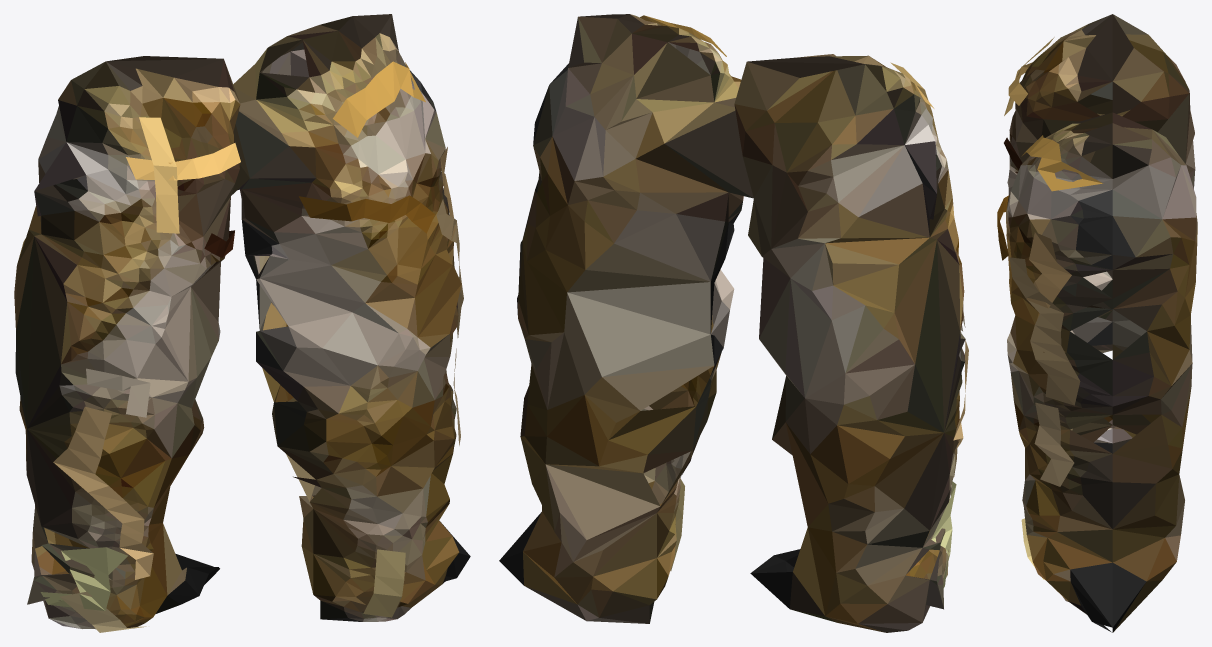
3 views of the same model, side by side, from view 1: azimuth 30°, elevation 25°; view 2: azimuth 150°, elevation 25°; view 3: azimuth 270°, elevation 25° (orthographic). The views are drawn at different scales.
Visible parts, largest first — view 1: object 2, detail; view 2: object 2, detail; view 3: object 2, detail.
Part boxes in pixels (x1,y1,x2,y2): object 2: (14,14,470,629); detail: (40,61,463,632); object 2: (499,14,965,632); detail: (640,15,968,589); object 2: (1006,14,1197,632); detail: (997,37,1103,579).
Size of the model in its own units: 124 by 163 by 60.29.
